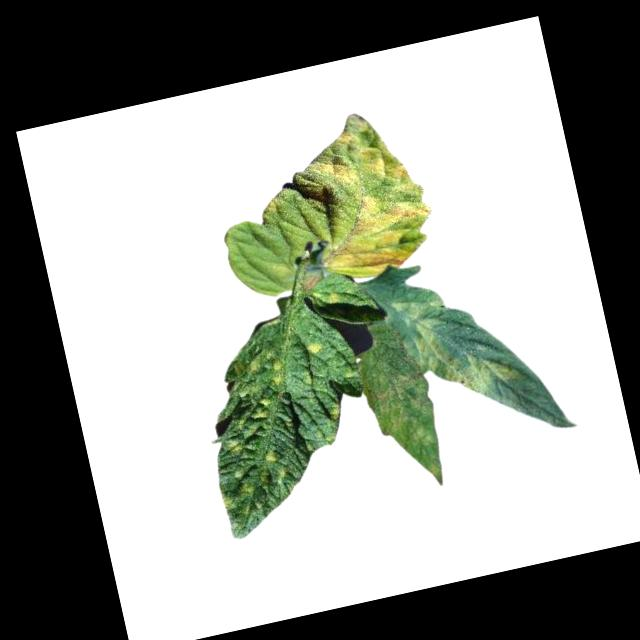Leaf_Mold: (244, 99, 444, 297), (193, 344, 319, 541), (391, 278, 519, 410), (361, 365, 449, 496), (306, 338, 325, 357), (326, 290, 344, 307)
